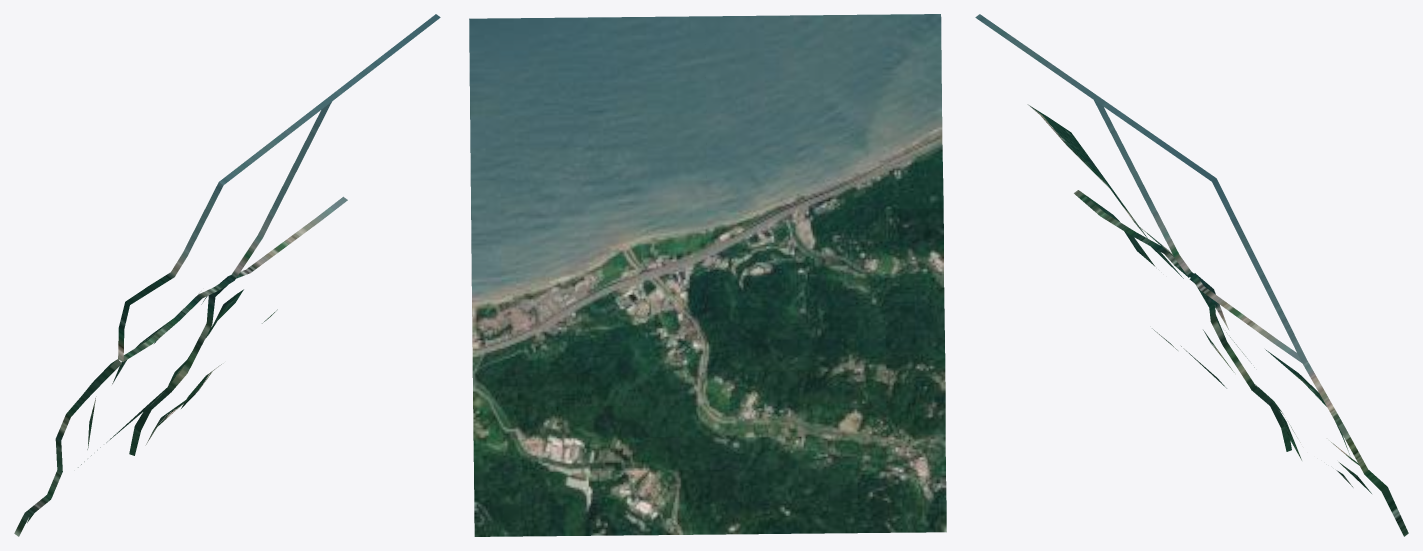
3 renders of one model, left to right at view 1: azimuth 30°, elevation 25°; view 2: azimuth 150°, elevation 25°; view 3: azimuth 270°, elevation 25°, orthographic. The views are drawn at different scales.
Size of the model in its own units: 2502 by 2193 by 2113.
1 material, 1 textured.
